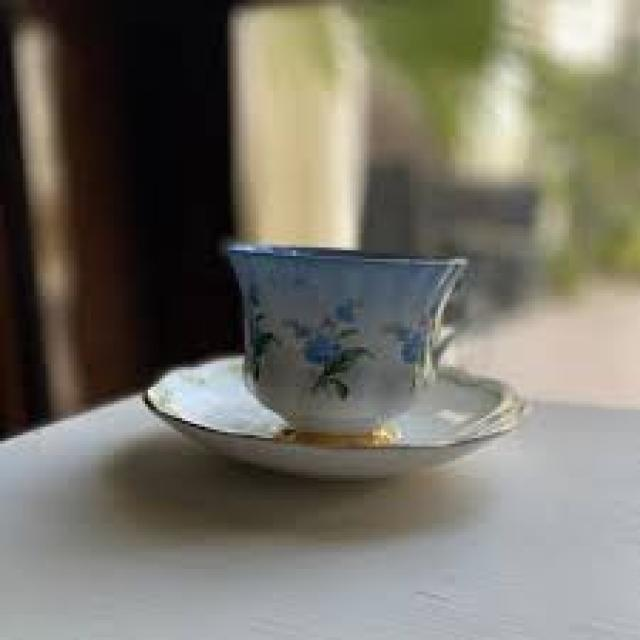taza: (214, 216, 491, 450)
